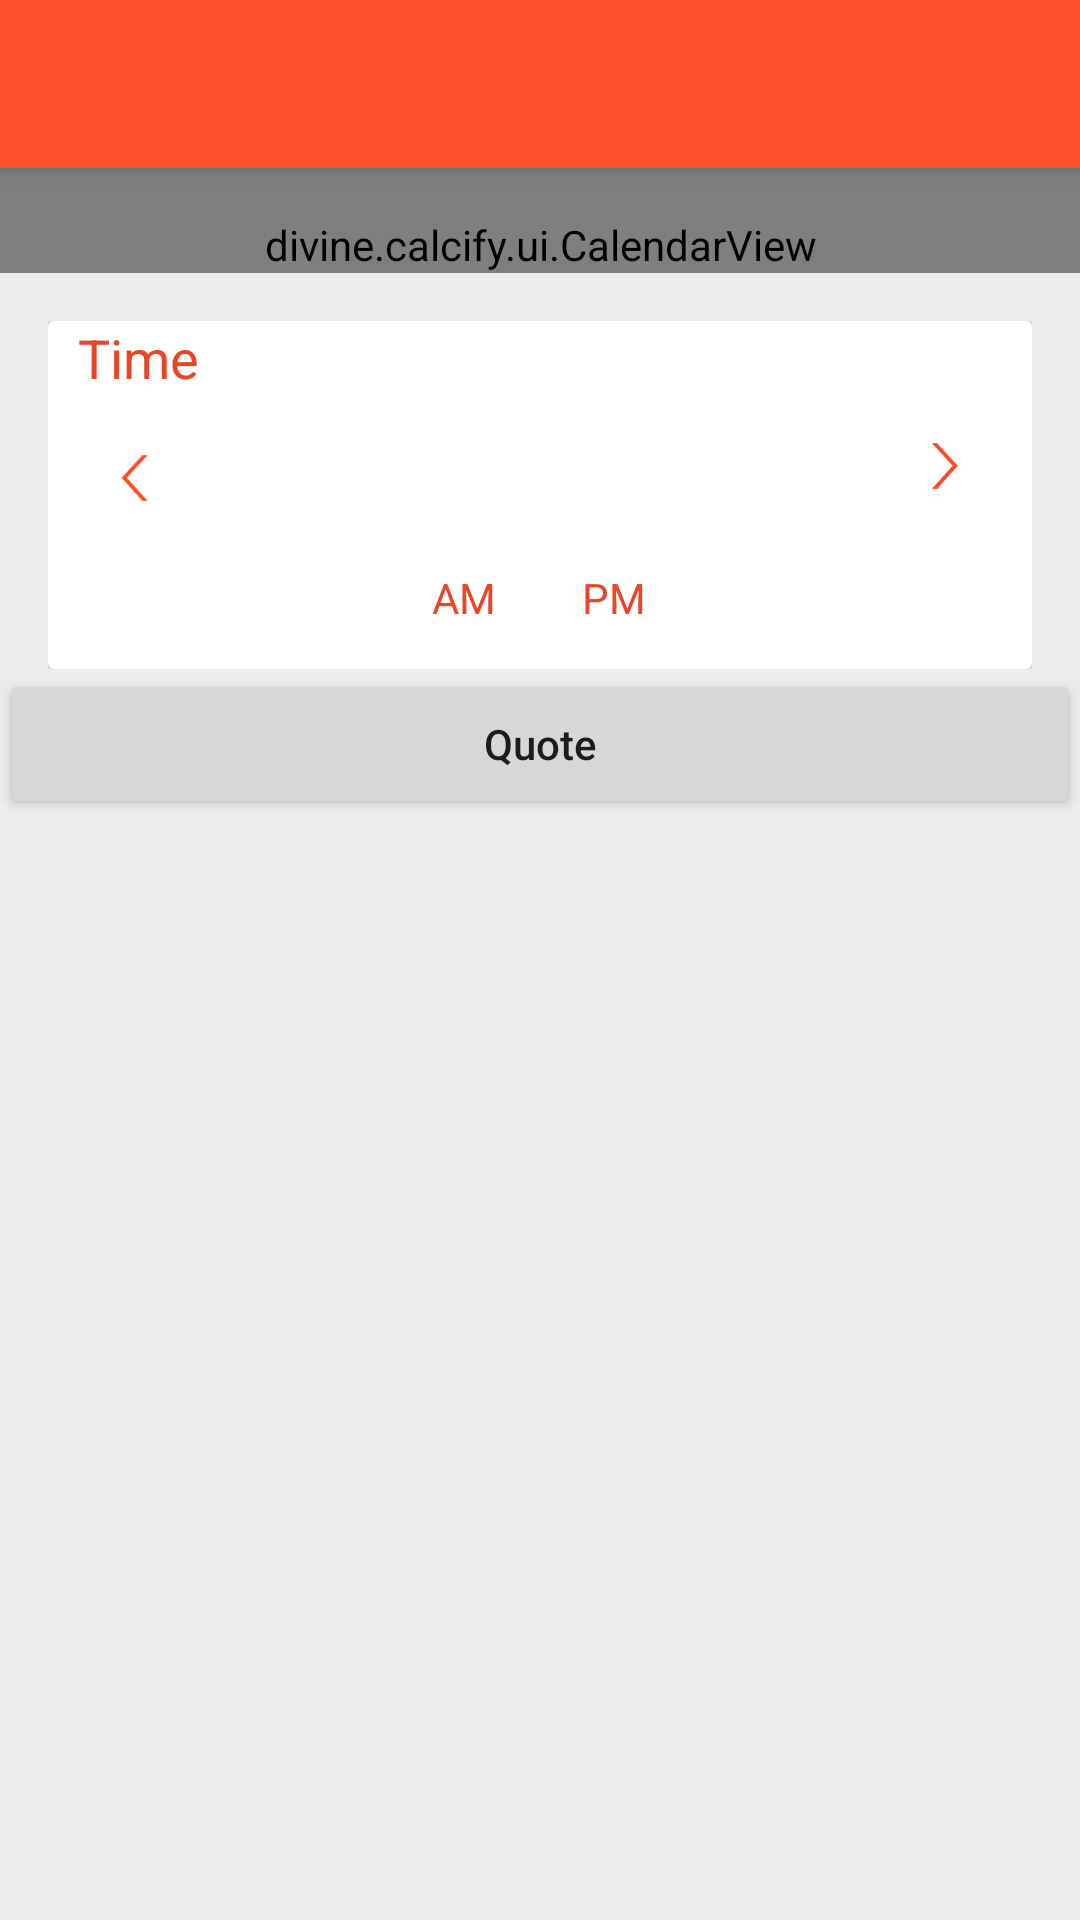

Icons on this 1080*1920 Android screen, each with its box as bbox(x1, y1, x2, y2):
left arrow: bbox(121, 455, 148, 501)
right arrow: bbox(932, 443, 958, 489)
